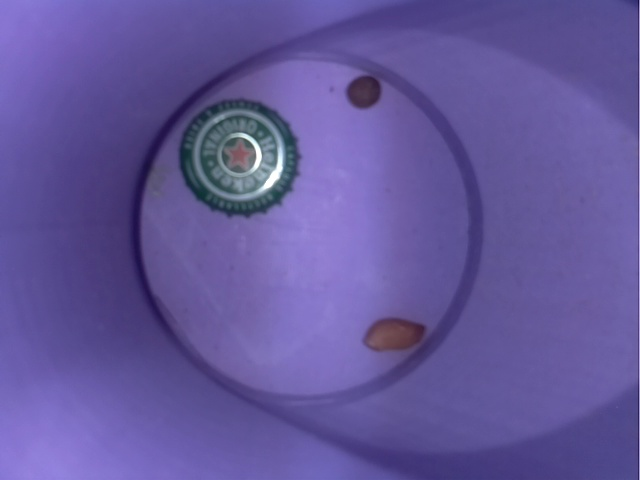capsule: (168, 91, 308, 224)
croquette: (359, 298, 427, 360), (337, 63, 393, 114)
